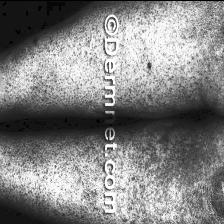Toxin: (129, 120, 191, 183), (133, 46, 170, 85)
